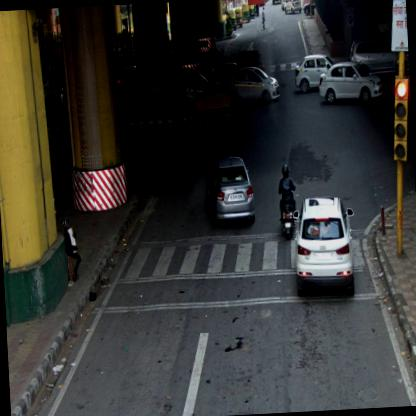car: (292, 196, 358, 298), (204, 156, 256, 224), (317, 60, 384, 106), (348, 35, 409, 80), (225, 64, 280, 104), (294, 52, 334, 95), (283, 0, 302, 17)
motorcycle: (278, 163, 296, 242)
